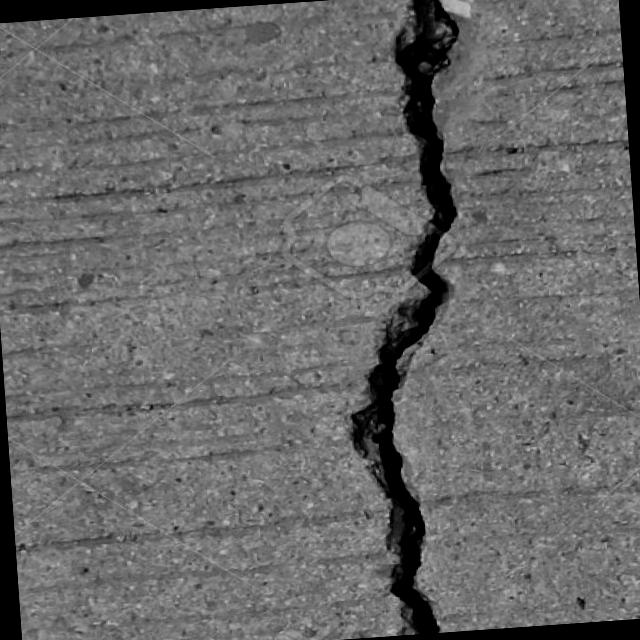crack: (315, 0, 501, 637)
